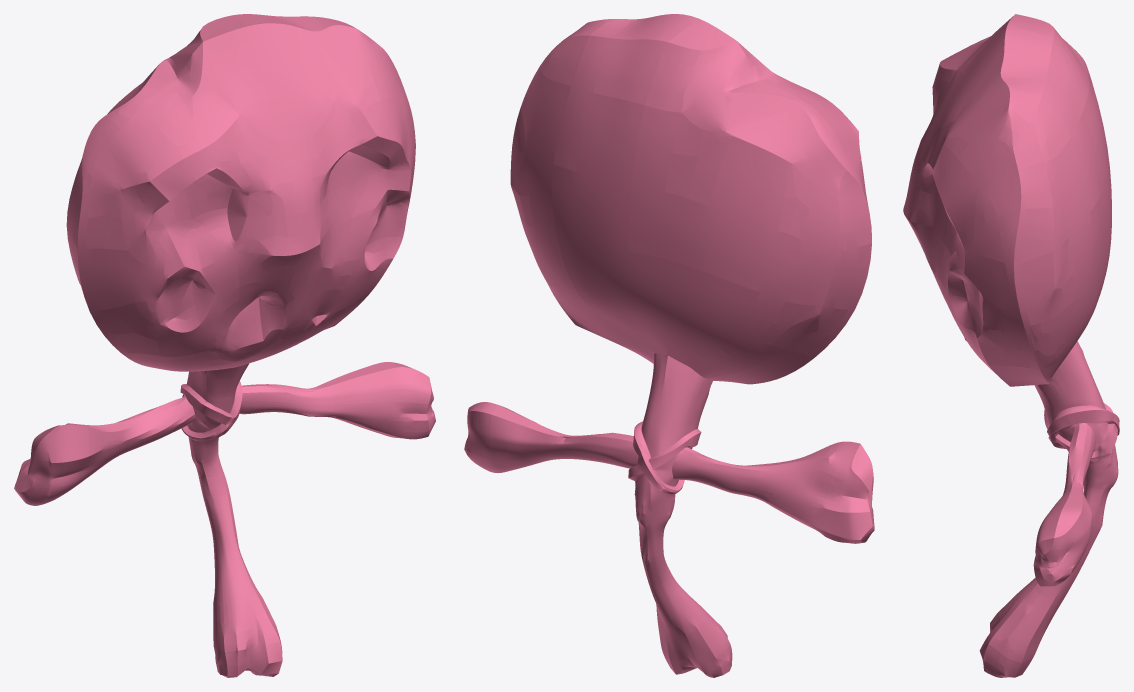
The picture shows the model from 3 angles, left to right: view 1: azimuth 30°, elevation 25°; view 2: azimuth 150°, elevation 25°; view 3: azimuth 270°, elevation 25°; orthographic projection.
Visible parts, largest first — view 1: split_parent_0; view 2: split_parent_0; view 3: split_parent_0.
Part boxes in pixels (bbox=[...]): split_parent_0: bbox=[14, 14, 435, 677]; split_parent_0: bbox=[464, 14, 874, 677]; split_parent_0: bbox=[903, 14, 1119, 677].
Size of the model in its own units: 0.661 by 1 by 0.3045.
